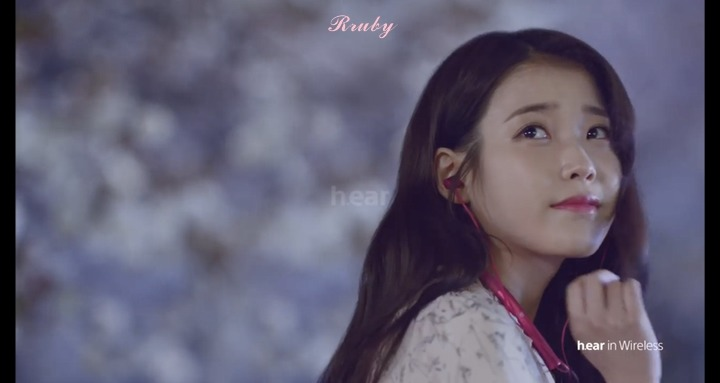earphone: (432, 147, 471, 204)
